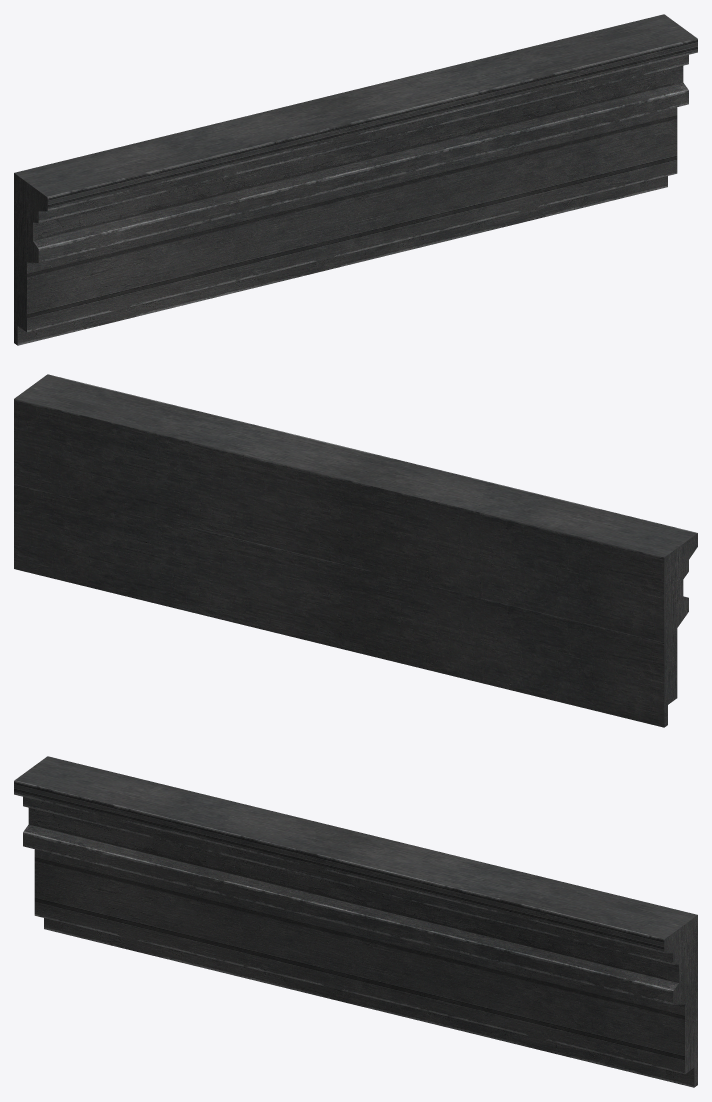
The model's file is House_07_Parapet_01.fbx.
3 renders of one model, top to bottom at view 1: azimuth 30°, elevation 25°; view 2: azimuth 150°, elevation 25°; view 3: azimuth 330°, elevation 25°, orthographic.
Visible parts, largest first — view 1: House_07_Parapet_01; view 2: House_07_Parapet_01; view 3: House_07_Parapet_01.
Part boxes in pixels (x1,y1,x2,y2): House_07_Parapet_01: (14,14,697,345); House_07_Parapet_01: (14,374,697,727); House_07_Parapet_01: (14,756,697,1087).
Size of the model in its own units: 400 by 100 by 35.83.
